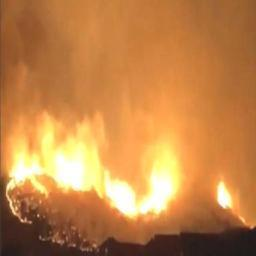Heavy smoke: (1, 2, 256, 151)
Large fire: (0, 137, 255, 252)
